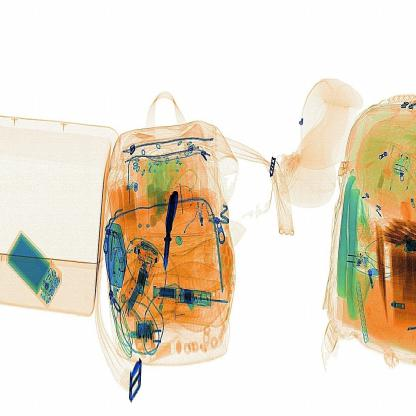gun: (147, 183, 184, 278)
